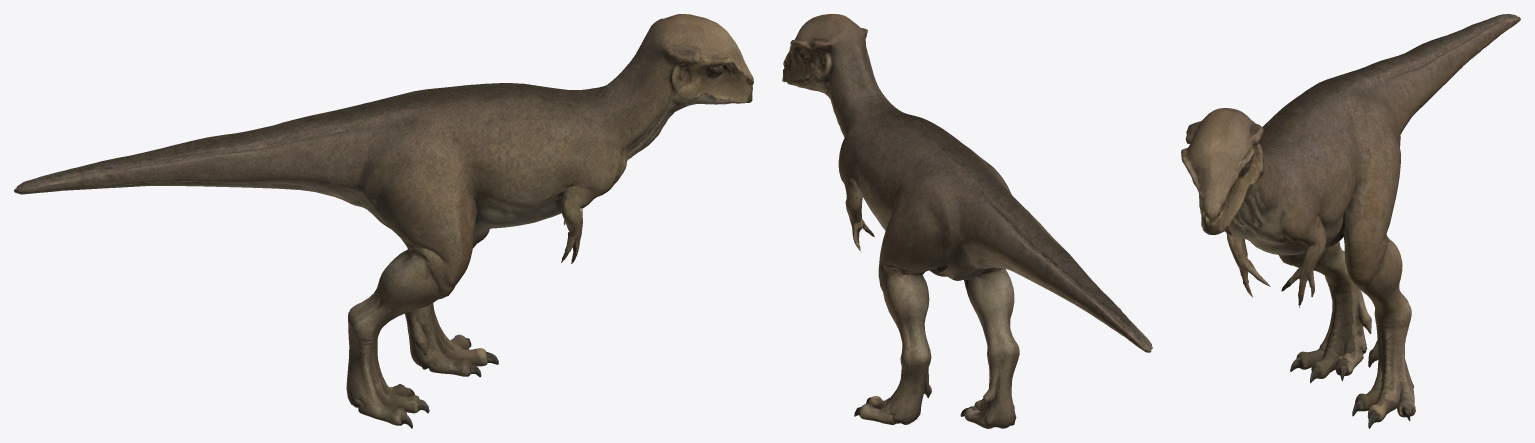
The model's file is zavacephale.glb.
3 views of the same model, side by side, from view 1: azimuth 30°, elevation 25°; view 2: azimuth 150°, elevation 25°; view 3: azimuth 270°, elevation 25° (orthographic). The views are drawn at different scales.
Visible parts, largest first — view 1: tmpihtvxu2tobj; view 2: tmpihtvxu2tobj; view 3: tmpihtvxu2tobj.
Boxes of the visible parts, x1,y1,x2,y2 form: tmpihtvxu2tobj: (14,14,753,428); tmpihtvxu2tobj: (782,14,1152,428); tmpihtvxu2tobj: (1181,14,1520,428).
Bounding box in the file's own units: 1.79 × 1.12 × 0.9186.
1 material, 1 textured.
